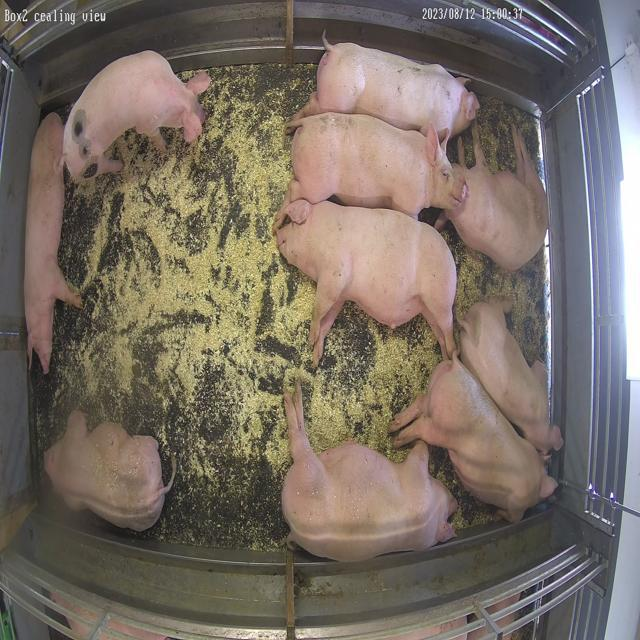Pig: (282, 383, 458, 563), (274, 199, 457, 366), (392, 358, 558, 522), (296, 32, 480, 140), (63, 50, 210, 178), (286, 112, 466, 216), (460, 298, 565, 456), (44, 411, 174, 532), (446, 124, 549, 272), (24, 113, 81, 374)
